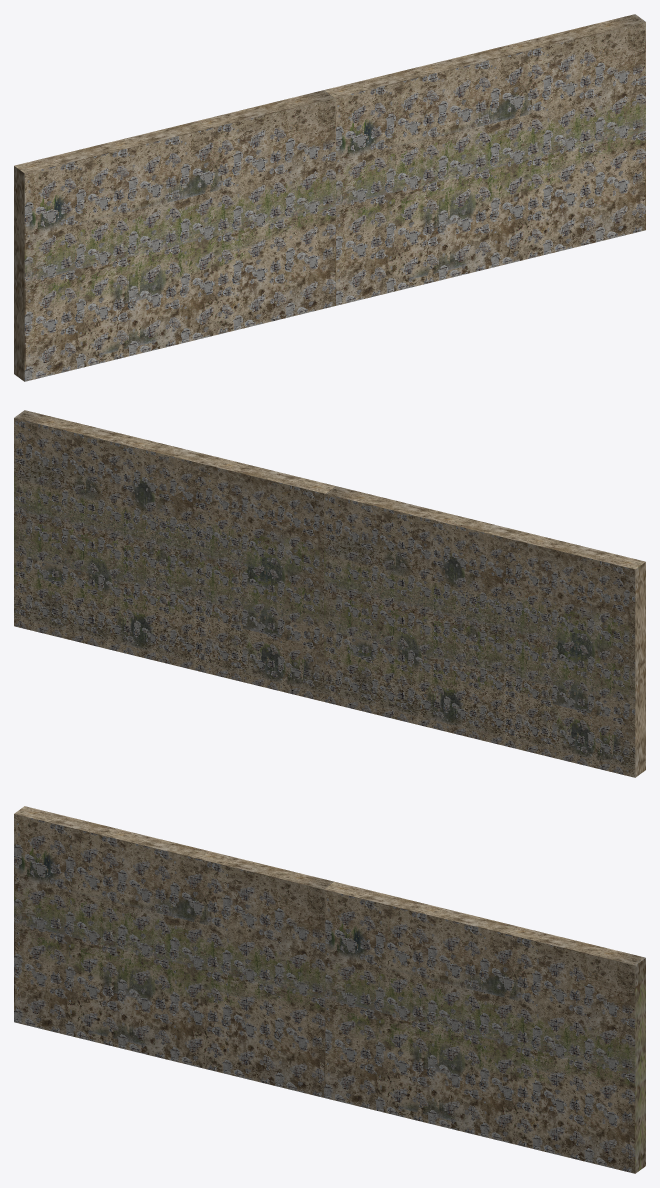
Rendered from Wall.fbx.
3 renders of one model, top to bottom at view 1: azimuth 30°, elevation 25°; view 2: azimuth 150°, elevation 25°; view 3: azimuth 330°, elevation 25°, orthographic.
Parts seen in each view (by area): view 1: Cube, Cube.001; view 2: Cube, Cube.001; view 3: Cube.001, Cube.
Part boxes in pixels (box(x1,y1,x2,y2)): Cube: box(14, 90, 335, 381); Cube.001: box(324, 14, 645, 305); Cube: box(324, 486, 645, 777); Cube.001: box(14, 410, 335, 701); Cube.001: box(324, 881, 645, 1173); Cube: box(14, 806, 333, 1097).
Bounding box in the file's own units: 1351 × 433 × 40.08.
